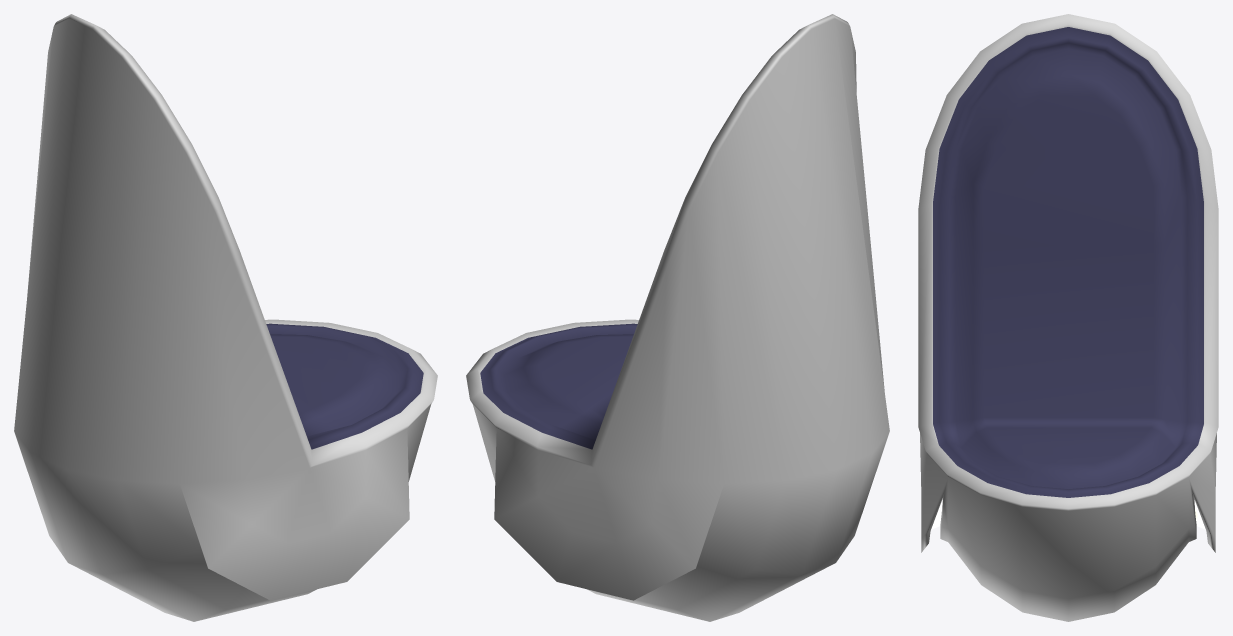
Rendered from Bridge_Chair_03_Mesh.fbx.
3 renders of one model, left to right at view 1: azimuth 30°, elevation 25°; view 2: azimuth 150°, elevation 25°; view 3: azimuth 270°, elevation 25°, orthographic. The views are drawn at different scales.
Parts seen in each view (by area): view 1: Bridge_Chair_03_Mesh; view 2: Bridge_Chair_03_Mesh; view 3: Bridge_Chair_03_Mesh.
Part boxes in pixels (<box>): Bridge_Chair_03_Mesh: <box>14,14,437,621</box>; Bridge_Chair_03_Mesh: <box>466,14,889,621</box>; Bridge_Chair_03_Mesh: <box>918,14,1218,621</box>.
Bounding box in the file's own units: 293 × 434 × 224.
